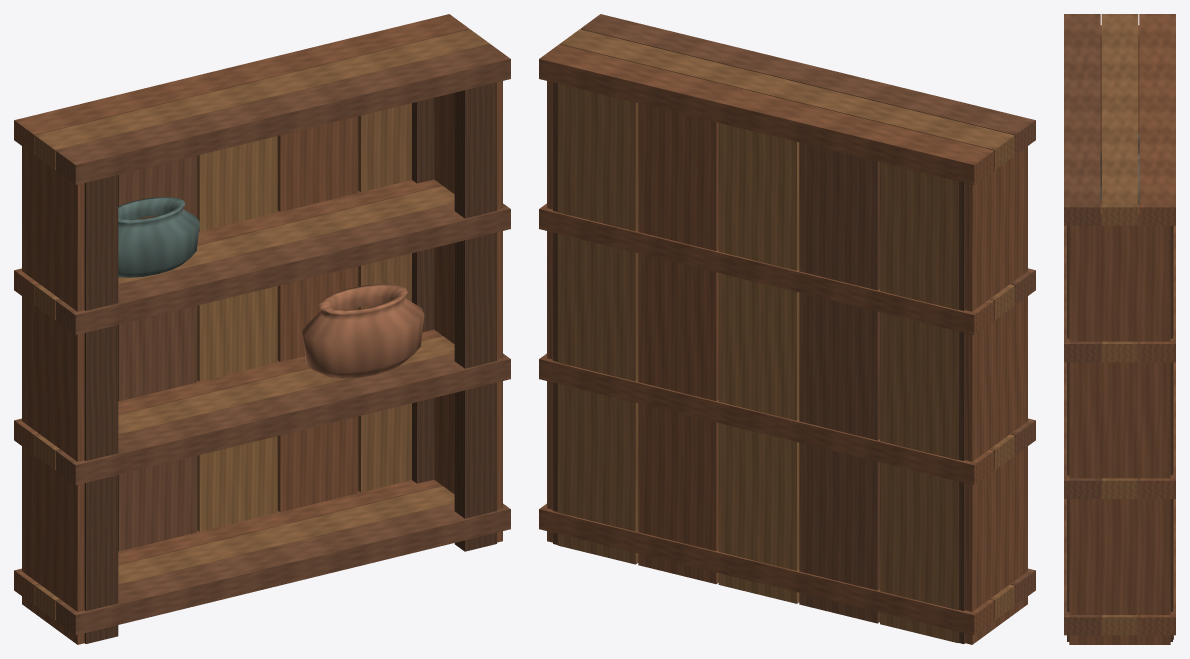
The model's file is shelf.glb.
3 renders of one model, left to right at view 1: azimuth 30°, elevation 25°; view 2: azimuth 150°, elevation 25°; view 3: azimuth 270°, elevation 25°, orthographic. The views are drawn at different scales.
Visible parts, largest first — view 1: shelf; view 2: shelf; view 3: shelf.
Part boxes in pixels (x1,y1,x2,y2): shelf: (14,14,510,644); shelf: (539,14,1035,644); shelf: (1064,14,1175,644).
Size of the model in its own units: 1.56 by 1.65 by 0.38.
1 material, 1 textured.
